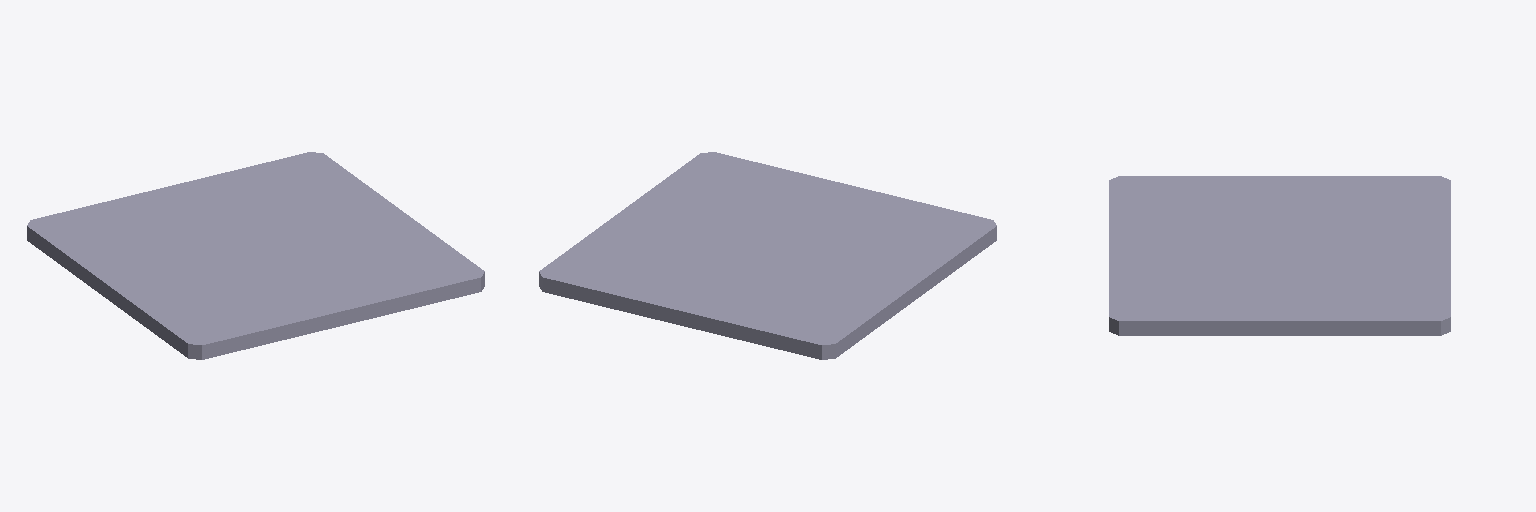
File: street4.obj
The picture shows the model from 3 angles: view 1: azimuth 30°, elevation 25°; view 2: azimuth 150°, elevation 25°; view 3: azimuth 270°, elevation 25°; orthographic projection.
Size of the model in its own units: 2.12 by 0.1 by 2.12.